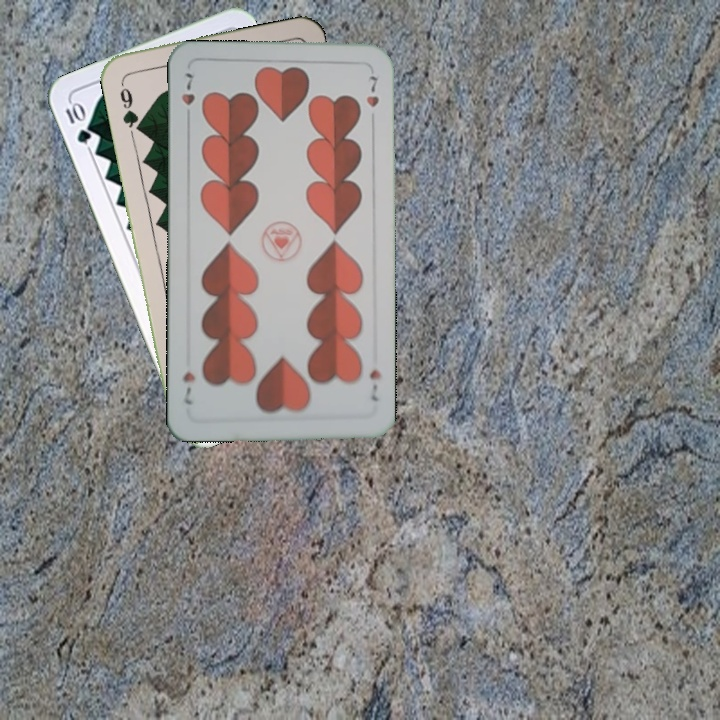G10: (61, 98, 94, 147)
G9: (115, 76, 143, 134)
H7: (177, 69, 197, 125), (366, 365, 384, 404)
